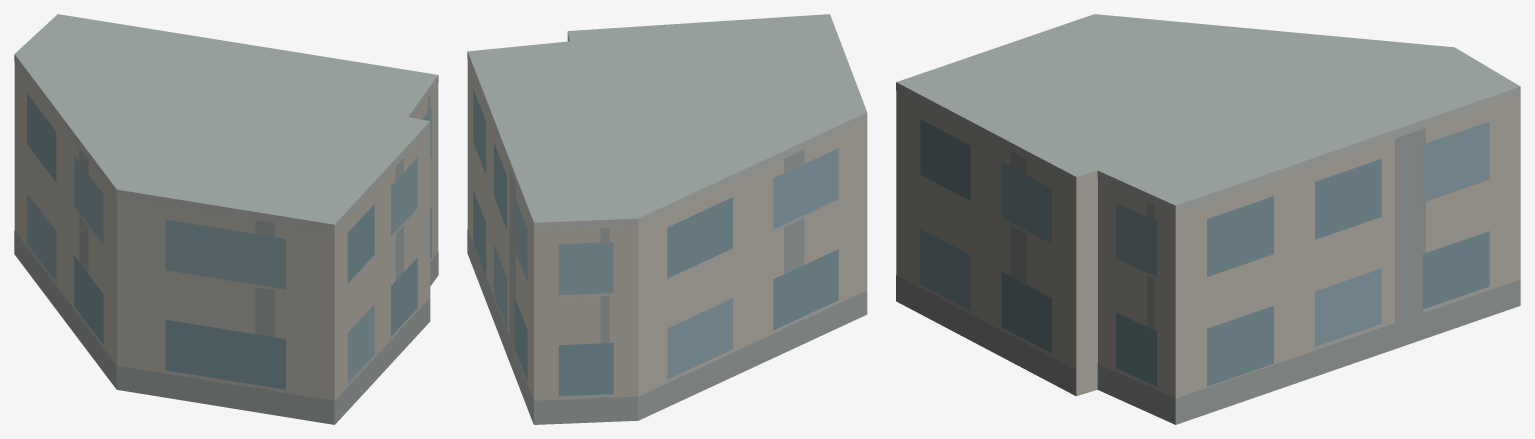
File: survey-upis-32511931.glb
3 views of the same model, side by side, from view 1: azimuth 30°, elevation 25°; view 2: azimuth 150°, elevation 25°; view 3: azimuth 270°, elevation 25° (orthographic). The views are drawn at different scales.
Visible parts, largest first — view 1: survey-upis-32511931.tmp; view 2: survey-upis-32511931.tmp; view 3: survey-upis-32511931.tmp.
Boxes of the visible parts, box(x1,y1,x2,y2) form: survey-upis-32511931.tmp: box(14, 14, 438, 424); survey-upis-32511931.tmp: box(467, 14, 867, 424); survey-upis-32511931.tmp: box(896, 14, 1520, 424).
Bounding box in the file's own units: 11.45 × 6.1 × 15.76.
